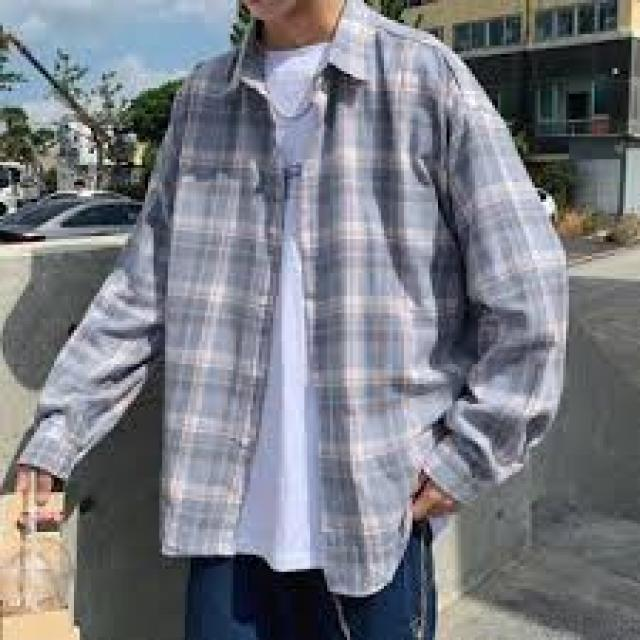plaid: (25, 59, 572, 580)
